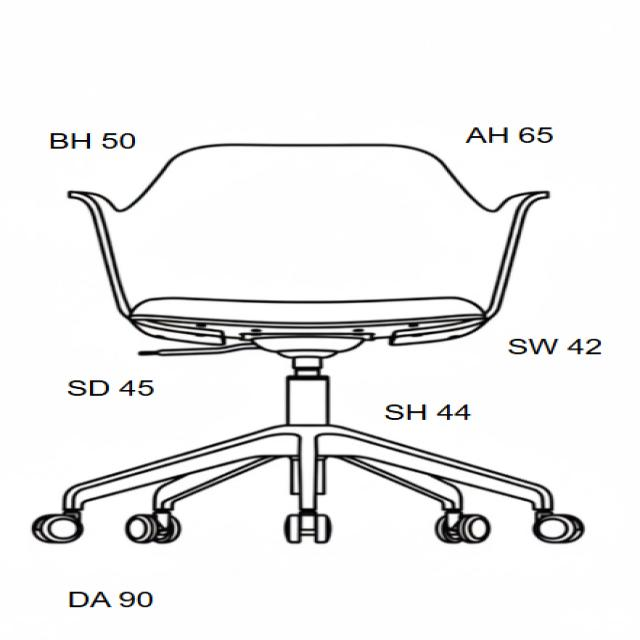5_Star_Base: (35, 422, 577, 542), (157, 456, 294, 508)
AH_Label: (458, 112, 568, 153)
Armrest: (466, 189, 551, 313), (73, 190, 147, 317)
BH_Label: (44, 119, 153, 165)
Backrest: (125, 145, 488, 301)
Base: (134, 315, 492, 345)
Control_Mechanism: (137, 337, 260, 356), (142, 342, 245, 355)
DA_Label: (63, 576, 172, 614)
SD_Label: (63, 370, 164, 405)
SH_Label: (379, 392, 484, 431)
SW_Label: (504, 325, 621, 362)
Seat: (132, 298, 491, 325)
